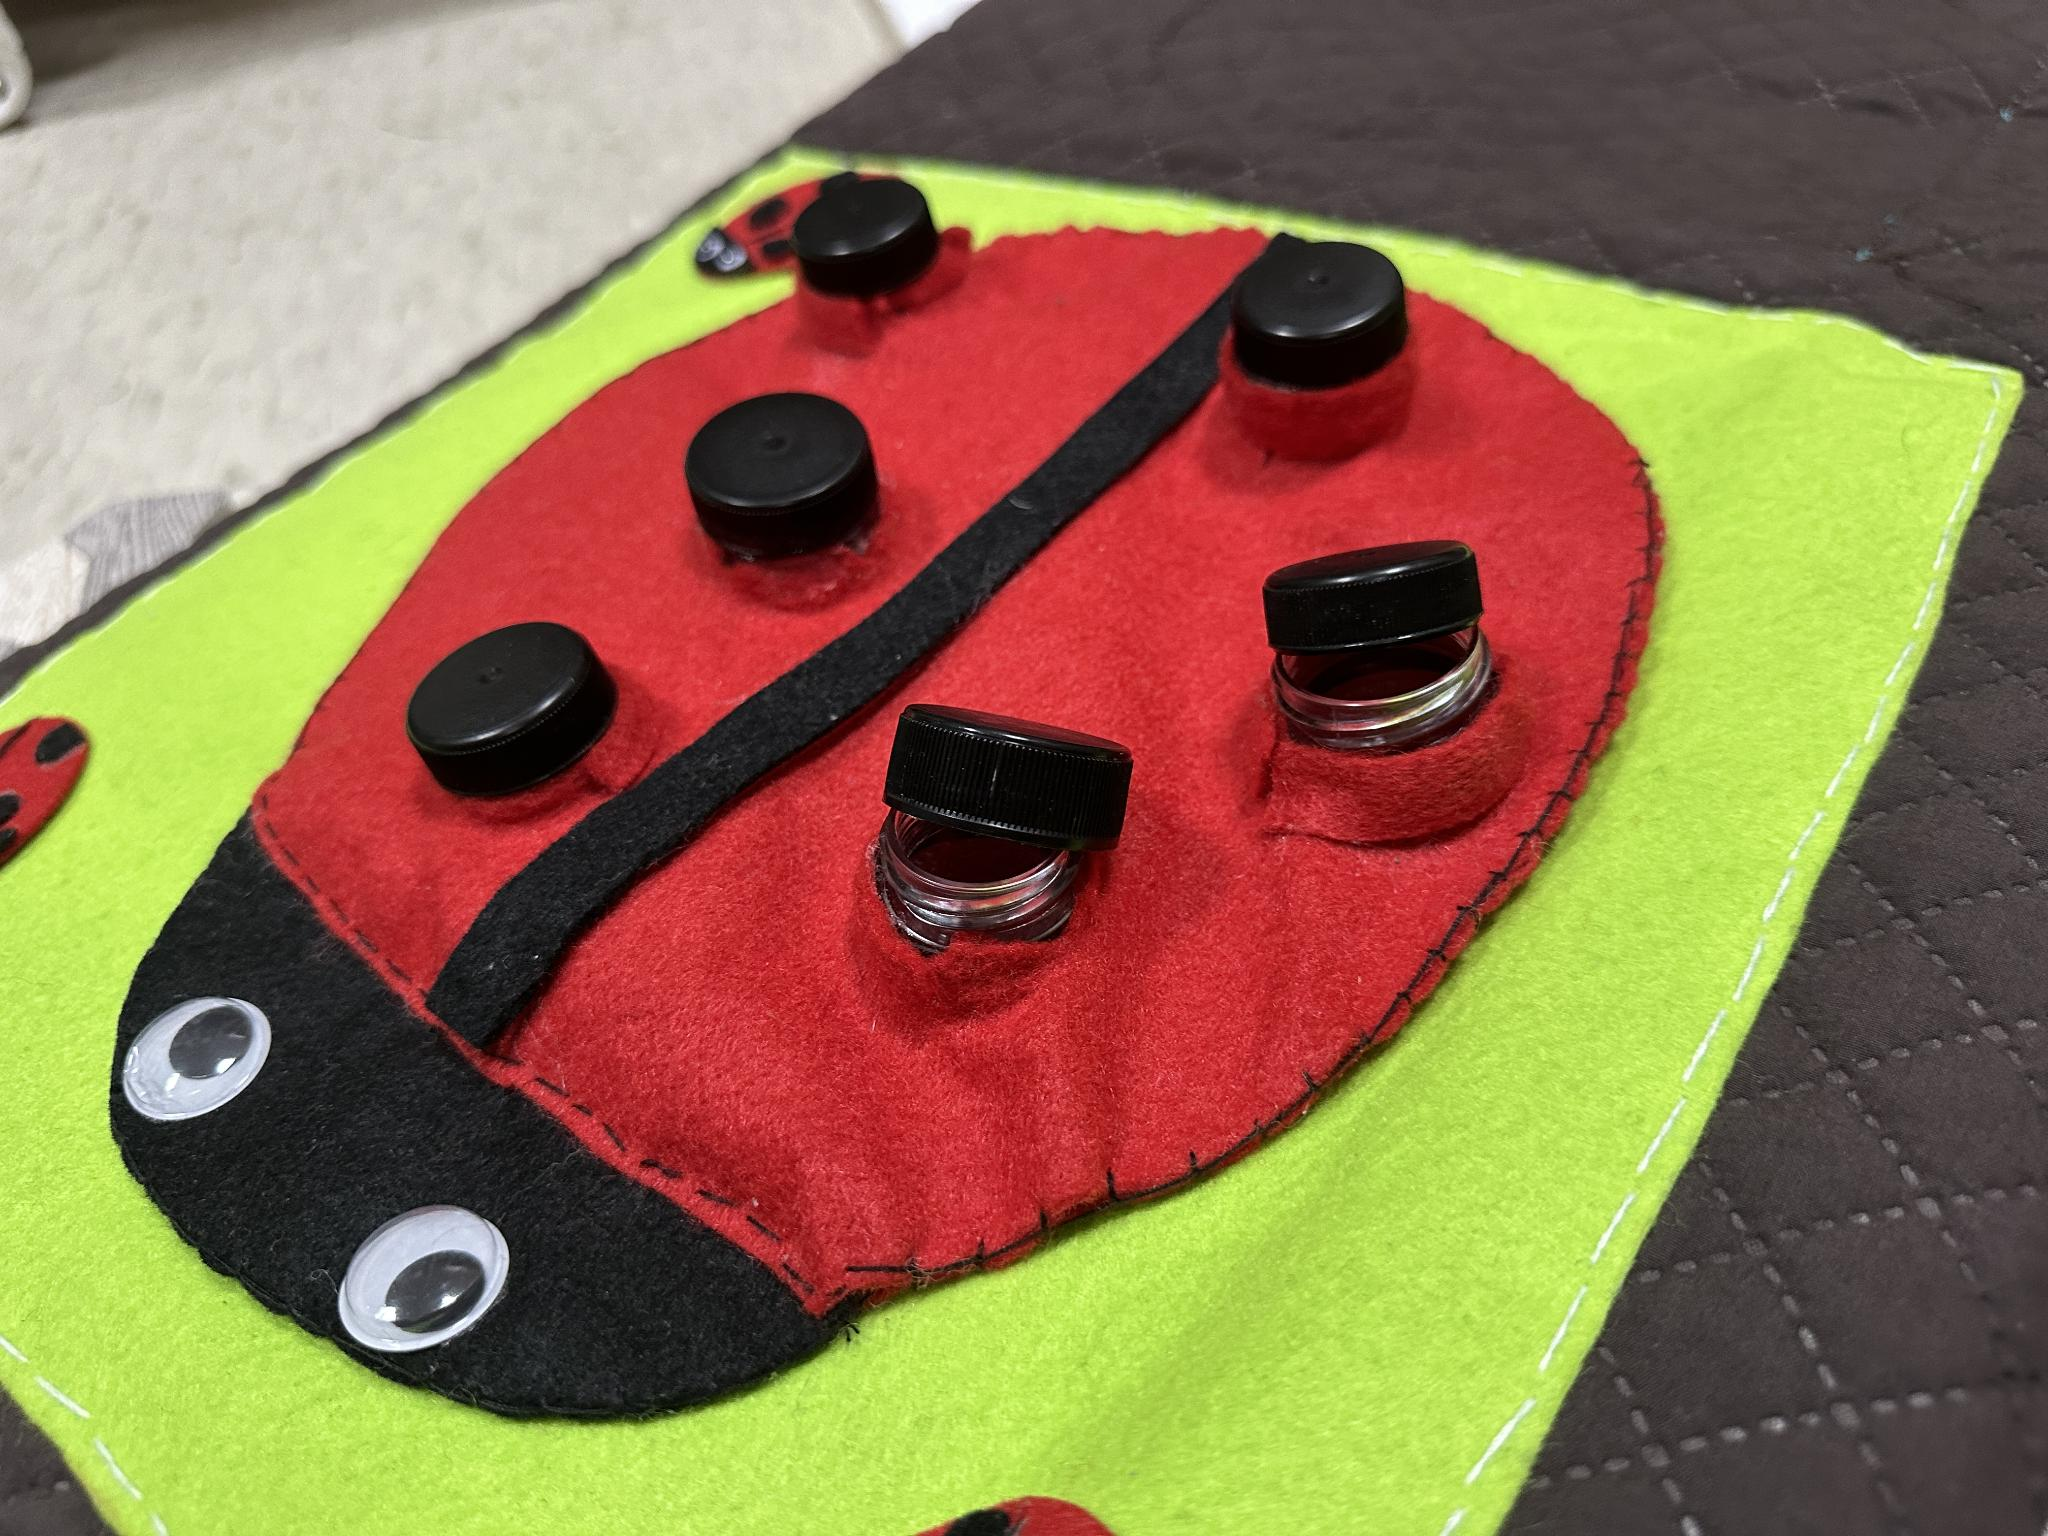cap_ng: (1206, 529, 1548, 854), (848, 673, 1148, 1028)
cap_ok: (642, 376, 900, 628), (393, 597, 664, 818), (1222, 231, 1429, 478), (779, 173, 977, 324)
